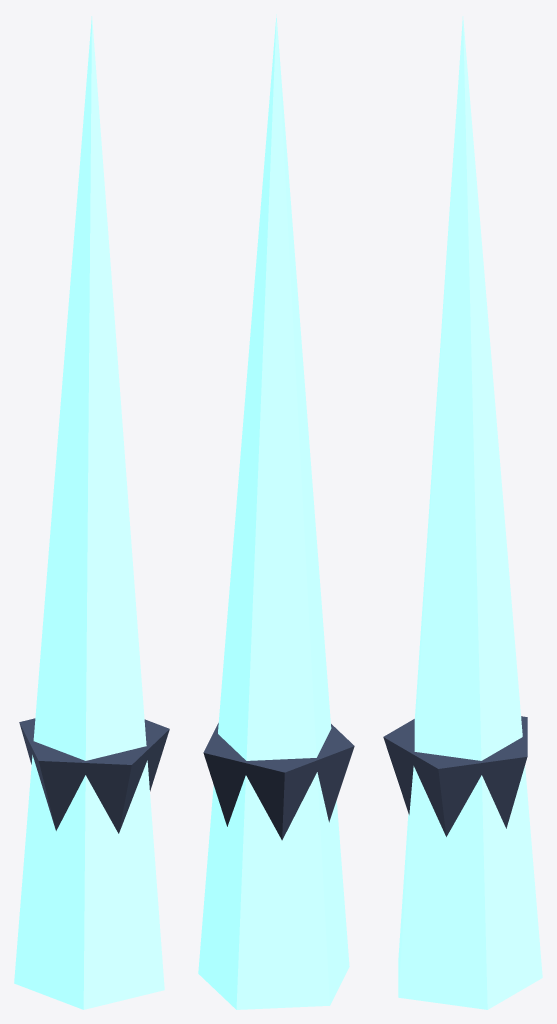
Rendered from Sky_OR_StormShard_05.glb.
3 renders of one model, left to right at view 1: azimuth 30°, elevation 25°; view 2: azimuth 150°, elevation 25°; view 3: azimuth 270°, elevation 25°, orthographic.
Parts seen in each view (by area): view 1: Sky_OR_StormShard_05; view 2: Sky_OR_StormShard_05; view 3: Sky_OR_StormShard_05.
Part boxes in pixels (x1,y1,x2,y2): Sky_OR_StormShard_05: (14, 16, 169, 1009); Sky_OR_StormShard_05: (198, 14, 354, 1009); Sky_OR_StormShard_05: (383, 16, 542, 1009).
Bounding box in the file's own units: 0.5706 × 4 × 0.6.
